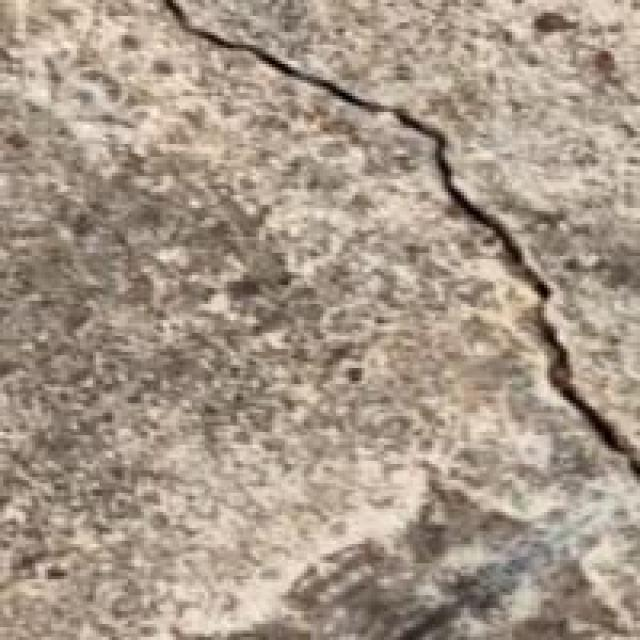Crack: (166, 3, 637, 458)
